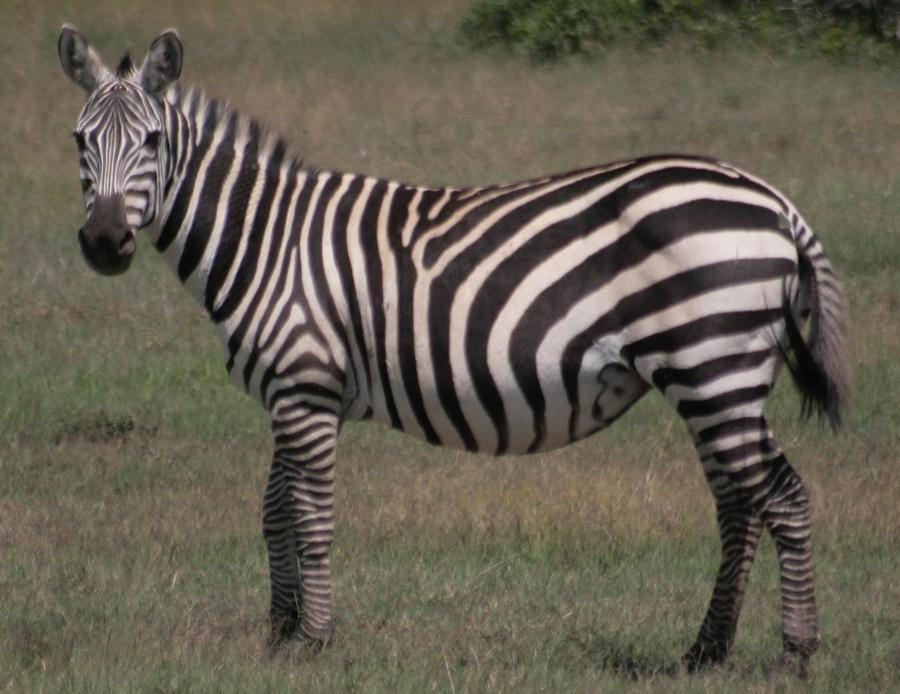zebra_plains: (218, 141, 784, 430)
